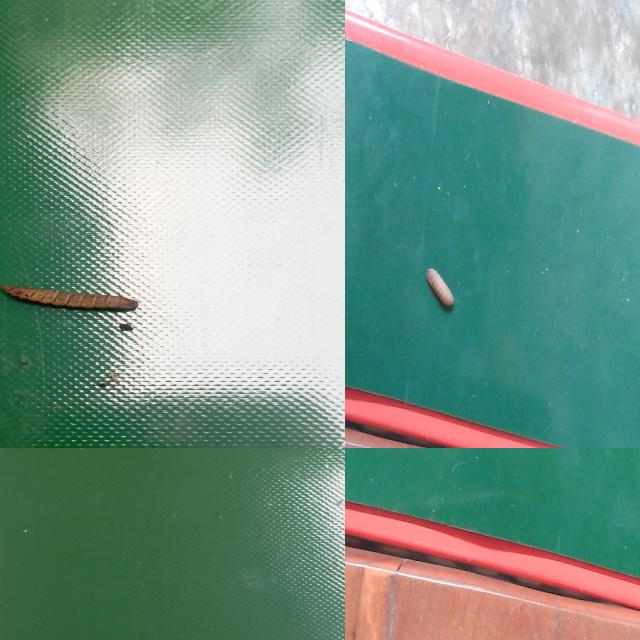Maggot: (0, 287, 141, 315), (426, 268, 457, 314)
